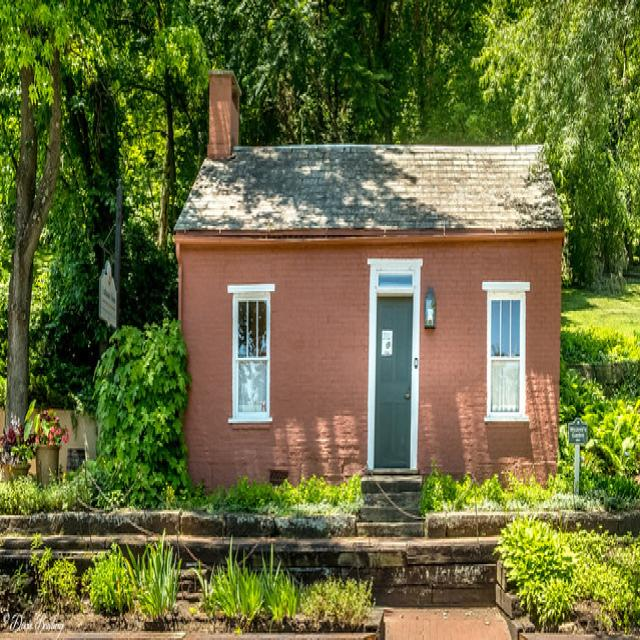building: (173, 64, 567, 504)
